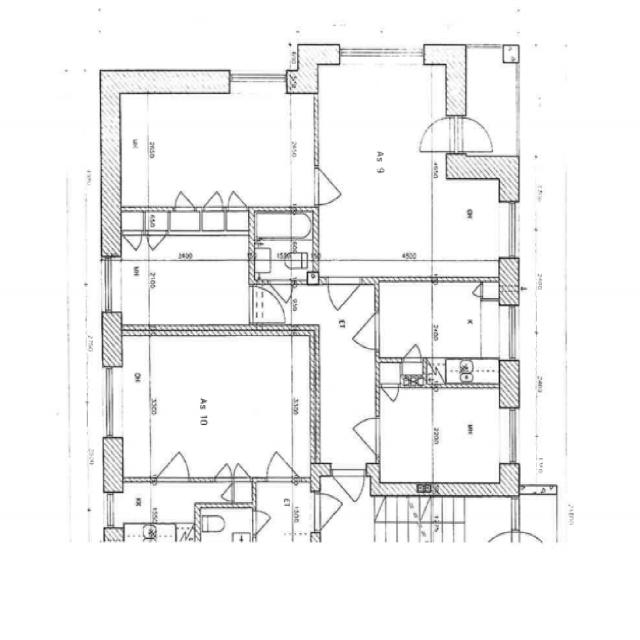door: (341, 422, 381, 500), (150, 444, 196, 486), (312, 483, 348, 532), (309, 164, 347, 209), (348, 412, 384, 459), (250, 284, 288, 328), (414, 114, 453, 156), (330, 464, 368, 506), (457, 114, 496, 154), (348, 309, 382, 352), (325, 275, 361, 313), (262, 447, 294, 484), (170, 186, 198, 214), (400, 341, 425, 364), (122, 229, 145, 254), (173, 520, 196, 543), (146, 230, 169, 252), (251, 508, 270, 534), (470, 282, 486, 300)
window: (337, 44, 425, 71), (97, 361, 123, 446), (497, 198, 523, 266), (228, 65, 290, 92), (498, 404, 523, 470), (96, 255, 119, 318), (500, 302, 522, 366), (100, 488, 118, 530)
zone: (120, 329, 314, 481), (315, 58, 448, 264), (116, 86, 317, 211), (432, 386, 508, 484), (433, 178, 505, 268), (464, 46, 519, 160), (378, 386, 436, 490), (433, 279, 505, 358), (378, 280, 434, 360), (252, 210, 314, 282), (457, 497, 517, 544), (254, 481, 298, 541), (516, 488, 559, 547), (195, 506, 254, 539), (110, 482, 154, 526)
